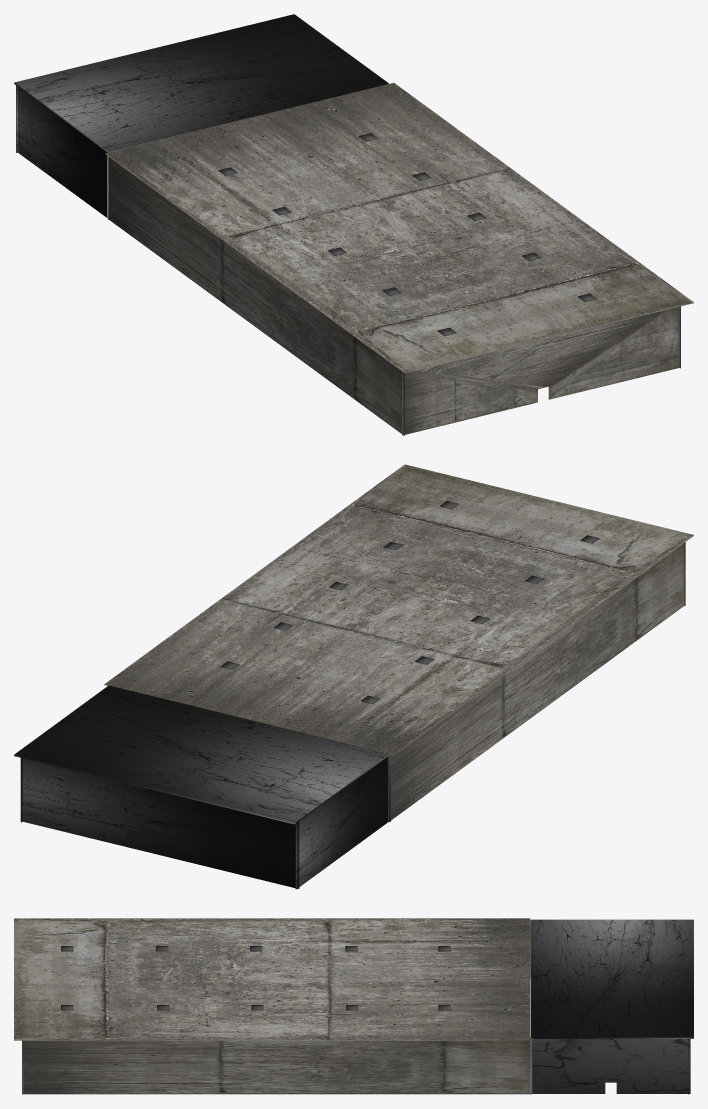
The model's file is habitacioB.fbx.
3 renders of one model, top to bottom at view 1: azimuth 30°, elevation 25°; view 2: azimuth 150°, elevation 25°; view 3: azimuth 270°, elevation 25°, orthographic. The views are drawn at different scales.
Visible parts, largest first — view 1: Cube_019, Cube_017, Cube_003, pared_final, Cube_002; view 2: Cube_019, Cube_017, Cube_003, Cube_005, Cube_002; view 3: Cube_019, Cube_000, Cube_017, pared_inicial.
Part boxes in pixels (bbox=[...]): Cube_019: bbox=[105, 83, 693, 373]; Cube_017: bbox=[14, 14, 388, 152]; Cube_003: bbox=[109, 157, 404, 435]; pared_final: bbox=[402, 307, 679, 435]; Cube_002: bbox=[18, 87, 107, 217]; Cube_019: bbox=[104, 464, 693, 755]; Cube_017: bbox=[14, 685, 389, 824]; Cube_003: bbox=[388, 543, 684, 822]; Cube_005: bbox=[20, 758, 299, 888]; Cube_002: bbox=[295, 756, 388, 889]; Cube_019: bbox=[14, 918, 530, 1040]; Cube_000: bbox=[22, 1037, 532, 1094]; Cube_017: bbox=[531, 919, 693, 1038]; pared_inicial: bbox=[532, 1039, 690, 1093].
Size of the model in its own units: 100 by 23.55 by 237.
